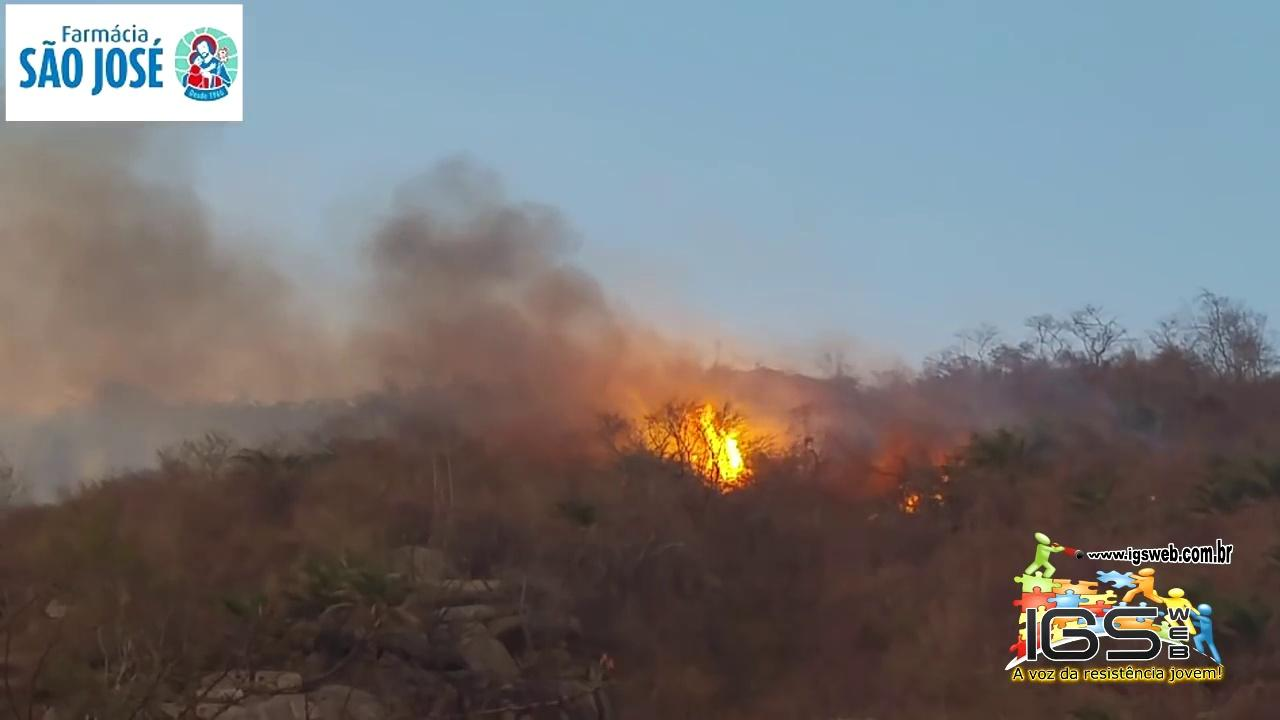fire: (629, 402, 760, 484), (899, 493, 919, 514)
